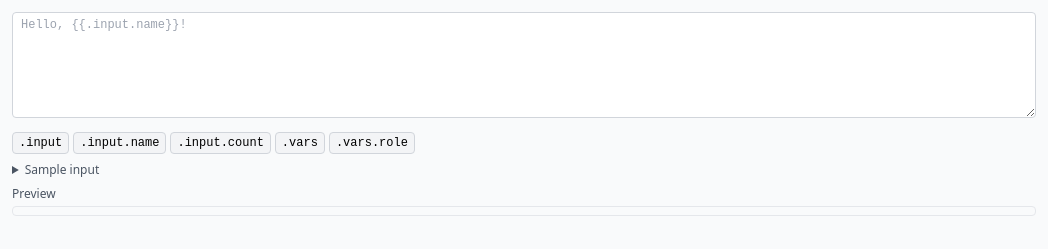
TemplateEditor › inserts a path when its chip is clicked
The width and height of the screenshot is (1048, 249).
Click the button titled "Insert {{.input.name}}". click: (120, 143)
box: [73, 132, 166, 154]
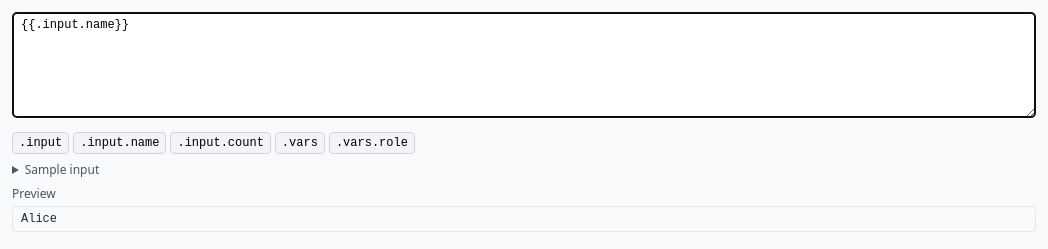
Expected: the text box named "Template expression" holds "{{.input.name}}", [12, 12, 1036, 118]
